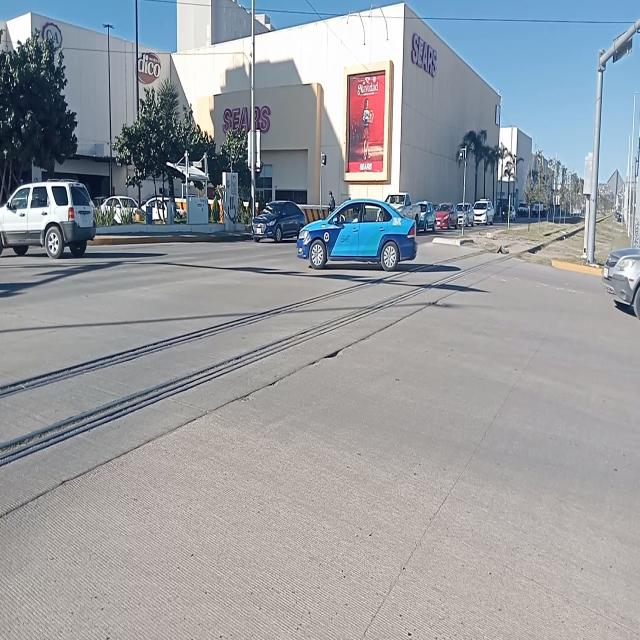Auto: (299, 201, 418, 269), (252, 198, 305, 240)
